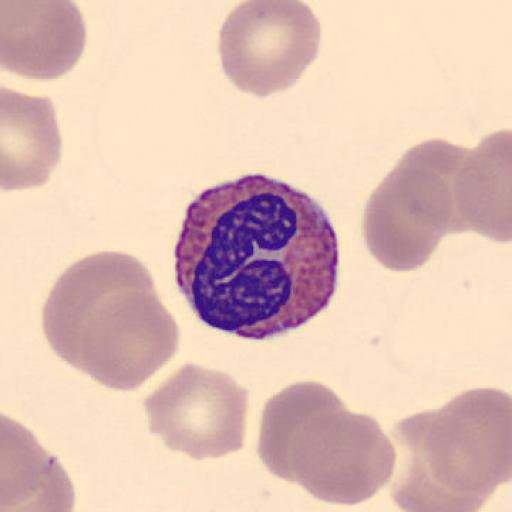RBC: (40, 249, 166, 377), (262, 395, 396, 509), (396, 388, 510, 506), (142, 360, 250, 462), (76, 289, 180, 394), (291, 406, 397, 508), (217, 0, 323, 100), (361, 164, 453, 273), (385, 410, 484, 511), (256, 378, 350, 484), (424, 385, 512, 495), (396, 136, 476, 238), (1, 412, 76, 512), (387, 440, 489, 512), (451, 127, 512, 245), (2, 0, 89, 82), (1, 86, 64, 193), (0, 412, 54, 512), (1, 451, 77, 512)
WBC: (169, 172, 342, 343)
